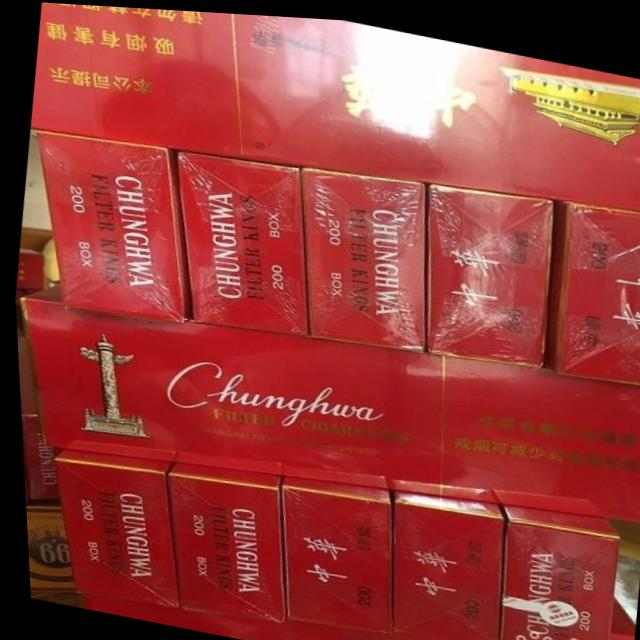box: (17, 282, 640, 515), (29, 2, 640, 204), (34, 133, 187, 321), (174, 150, 306, 332), (425, 179, 554, 361), (302, 164, 423, 347), (76, 595, 497, 640), (50, 451, 169, 605), (164, 461, 277, 621), (543, 195, 640, 378), (493, 500, 615, 640), (388, 489, 499, 640), (278, 474, 386, 629), (13, 323, 63, 499), (20, 501, 71, 591), (13, 227, 58, 289)
